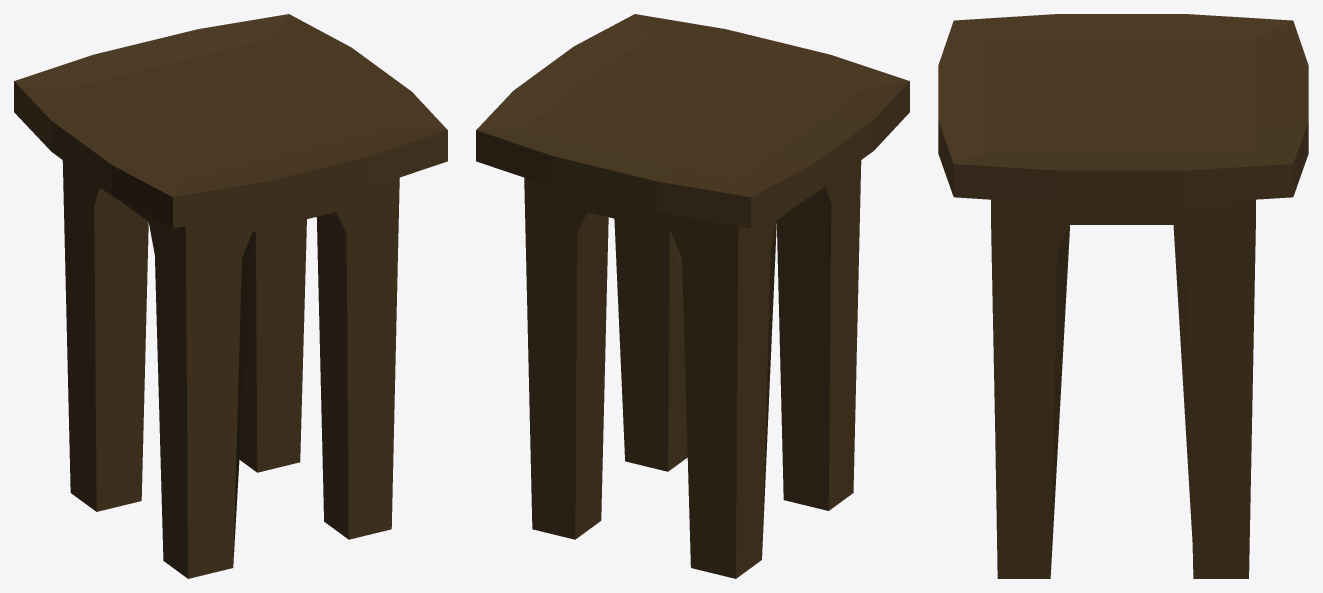
File: Tiny table.fbx
The picture shows the model from 3 angles, left to right: view 1: azimuth 30°, elevation 25°; view 2: azimuth 150°, elevation 25°; view 3: azimuth 270°, elevation 25°; orthographic projection. The views are drawn at different scales.
Visible parts, largest first — view 1: Cube; view 2: Cube; view 3: Cube.
Part boxes in pixels (bbox=[...]): Cube: bbox=[14, 14, 447, 578]; Cube: bbox=[476, 14, 909, 578]; Cube: bbox=[938, 14, 1308, 578].
Bounding box in the file's own units: 168 × 217 × 168.
